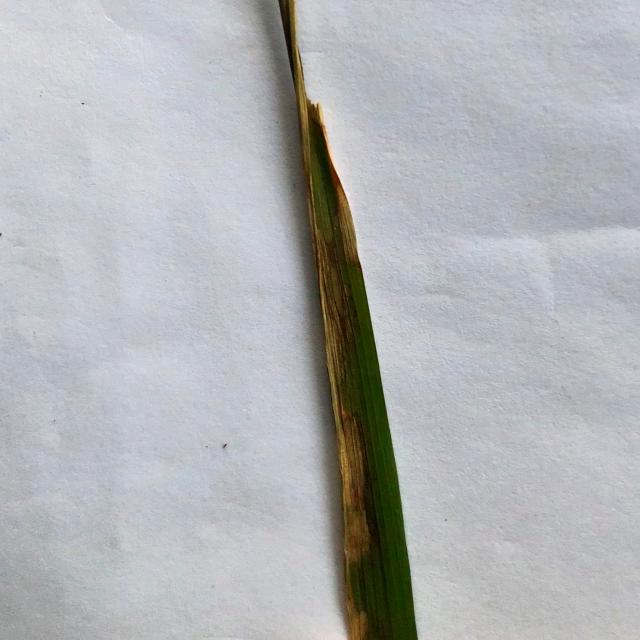leaf blight: (313, 226, 373, 564), (288, 0, 328, 122), (326, 152, 362, 266), (343, 564, 372, 640), (302, 118, 319, 232)
